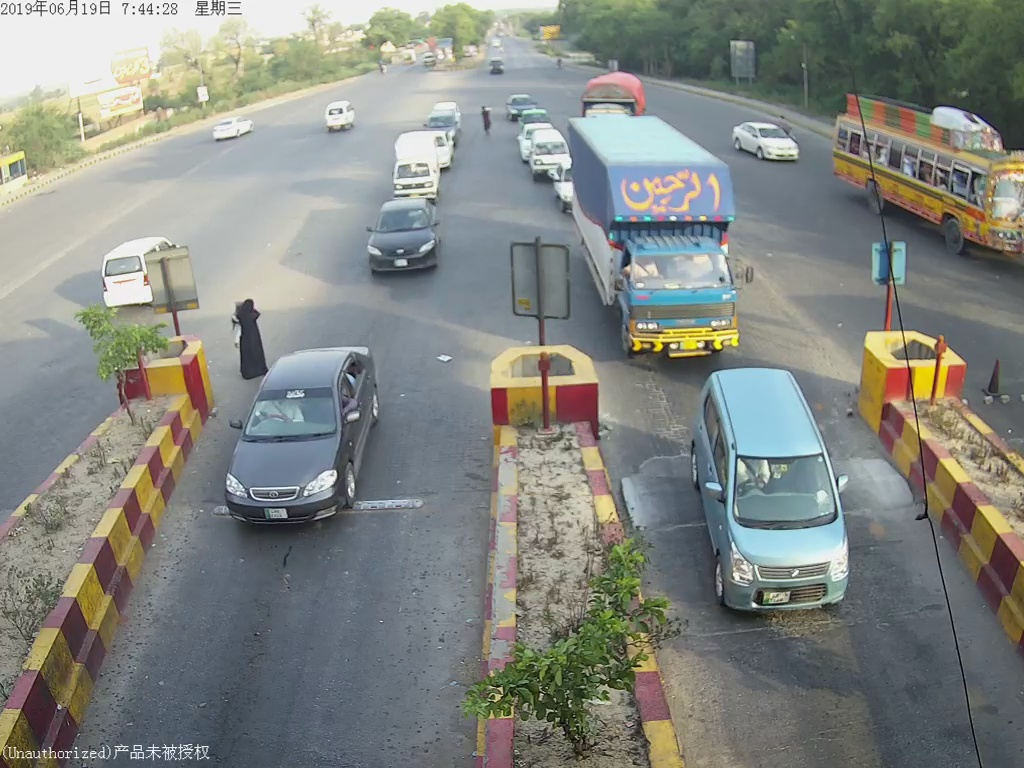Cat-1: (697, 380, 863, 614), (238, 353, 392, 517), (368, 207, 443, 268), (392, 141, 448, 195)
Cat-2: (575, 117, 756, 370)
